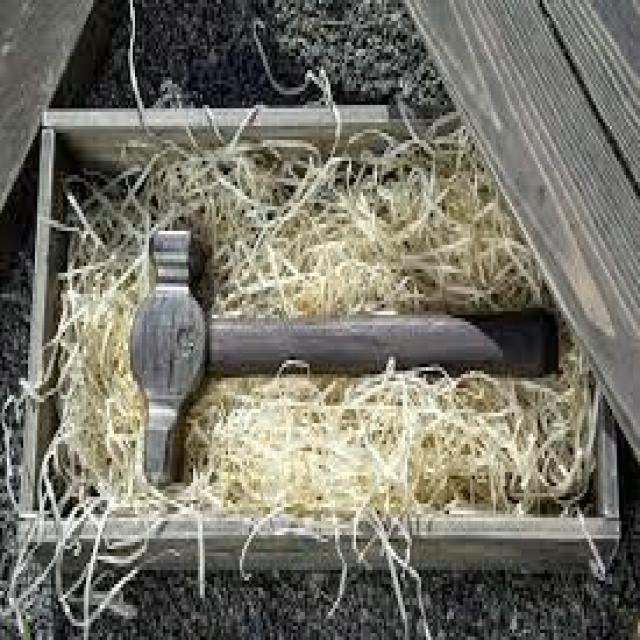hammer: (128, 206, 573, 500)
